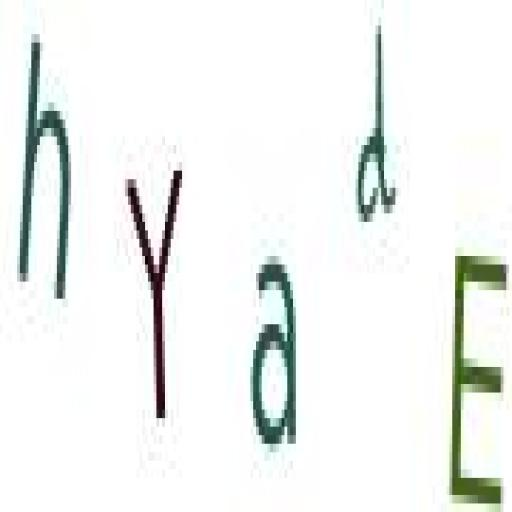E: (447, 236, 510, 510)
Y: (118, 147, 190, 436)
a: (248, 237, 306, 465)
d: (352, 6, 400, 252)
h: (17, 17, 75, 323)
